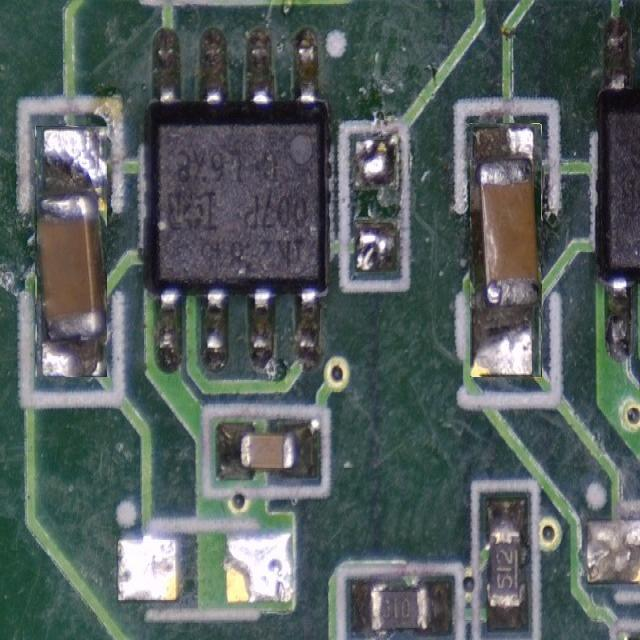Incorrect_installation: (36, 126, 107, 377), (471, 124, 540, 376)
